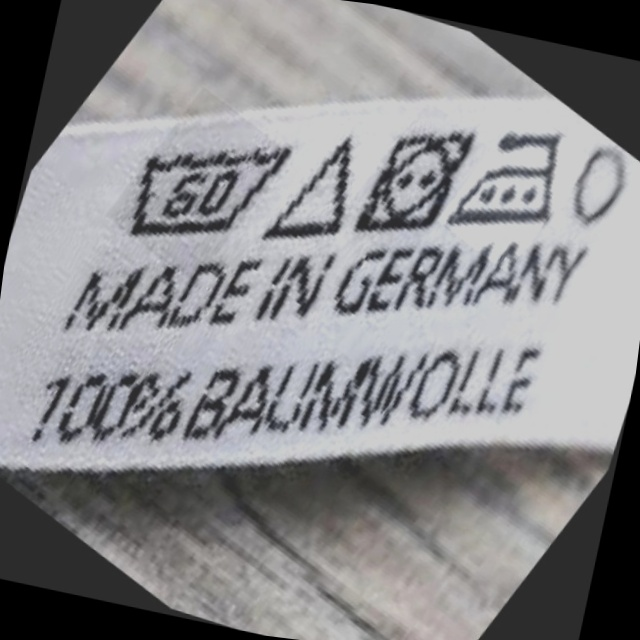60C: (106, 94, 302, 273)
bleach: (265, 115, 376, 266)
iron_high: (446, 101, 584, 259)
tumble_dry_medium: (353, 99, 480, 257)
